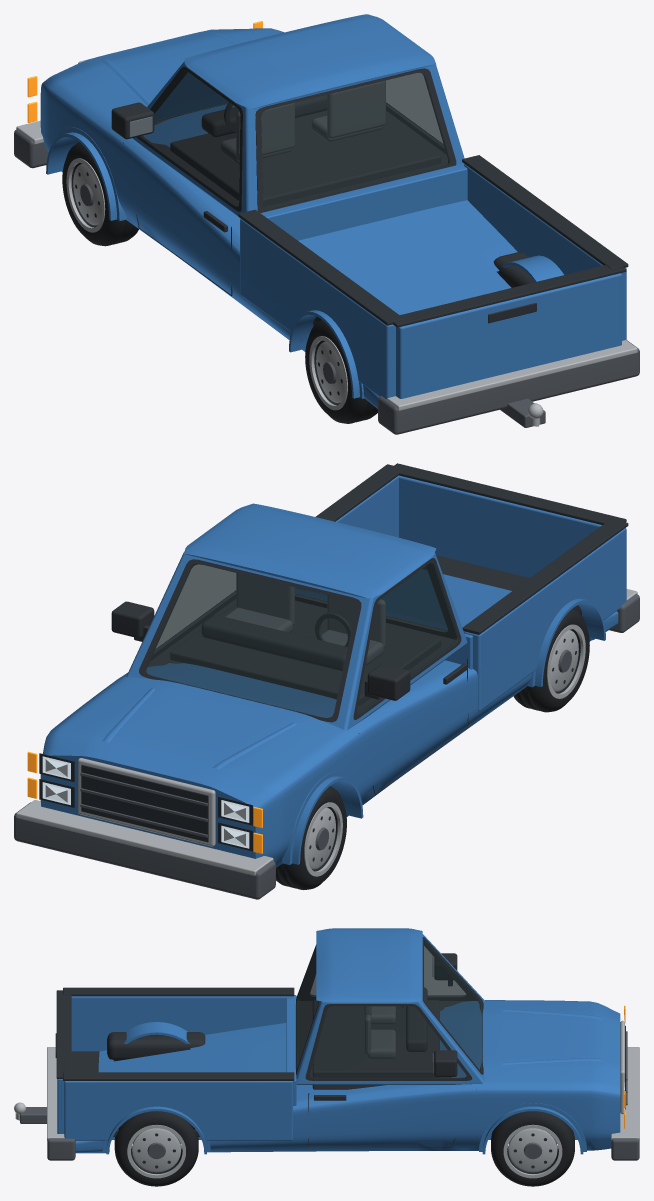
File: pickup-travel-trailer.glb
3 views of the same model, one above another, from view 1: azimuth 30°, elevation 25°; view 2: azimuth 150°, elevation 25°; view 3: azimuth 270°, elevation 25° (orthographic). The views are drawn at different scales.
Parts seen in each view (by area): view 1: Body geometry, Running wheel geometry, Running wheel geometry.002; view 2: Body geometry, Running wheel geometry.002, Running wheel geometry; view 3: Body geometry, Running wheel geometry.001, Running wheel geometry.003.
Part boxes in pixels (box(x1,y1,x2,y2)): Body geometry: box(14, 14, 639, 434); Running wheel geometry: box(62, 142, 138, 246); Running wheel geometry.002: box(305, 320, 377, 423); Body geometry: box(14, 463, 639, 899); Running wheel geometry.002: box(513, 608, 589, 712); Running wheel geometry: box(276, 786, 346, 889); Body geometry: box(14, 928, 639, 1160); Running wheel geometry.001: box(491, 1111, 574, 1186); Running wheel geometry.003: box(114, 1111, 198, 1186).
Bounding box in the file's own units: 1.71 × 1.36 × 4.18.
